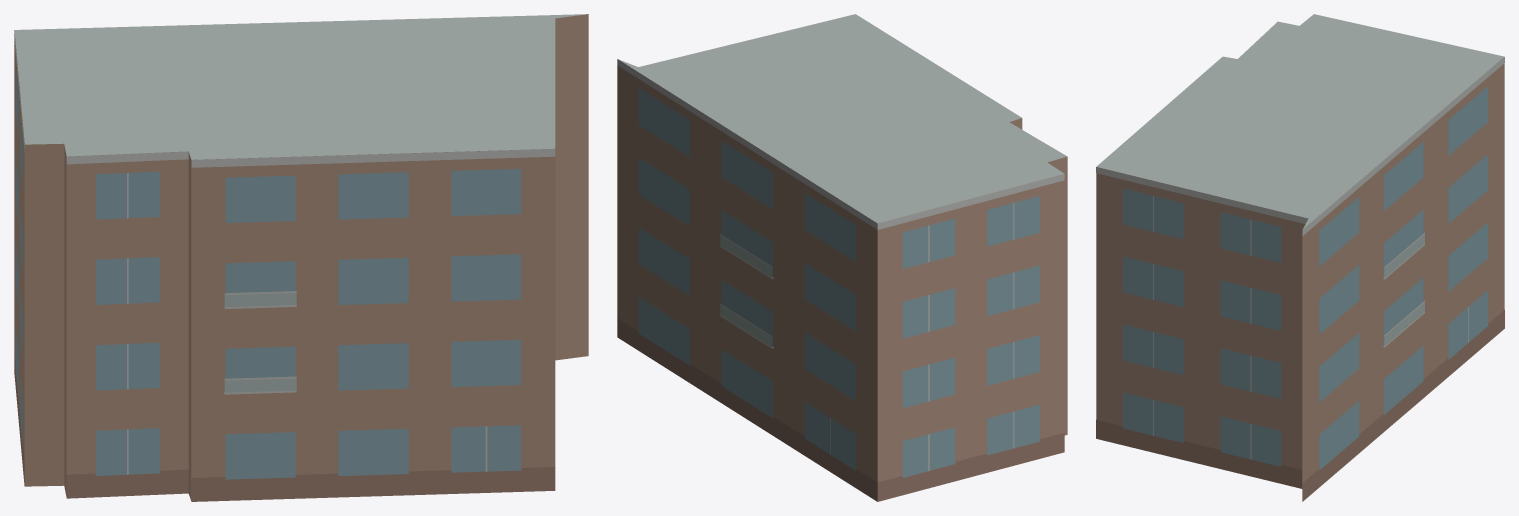
The model's file is survey-upis-32603921.glb.
The picture shows the model from 3 angles, left to right: view 1: azimuth 30°, elevation 25°; view 2: azimuth 150°, elevation 25°; view 3: azimuth 270°, elevation 25°; orthographic projection. The views are drawn at different scales.
Visible parts, largest first — view 1: survey-upis-32603921.tmp; view 2: survey-upis-32603921.tmp; view 3: survey-upis-32603921.tmp.
Boxes of the visible parts, x1=… form: survey-upis-32603921.tmp: x1=14, y1=14, x2=588, y2=501; survey-upis-32603921.tmp: x1=617, y1=14, x2=1067, y2=501; survey-upis-32603921.tmp: x1=1096, y1=14, x2=1504, y2=501.
Size of the model in its own units: 17.9 by 10.5 by 14.31.
